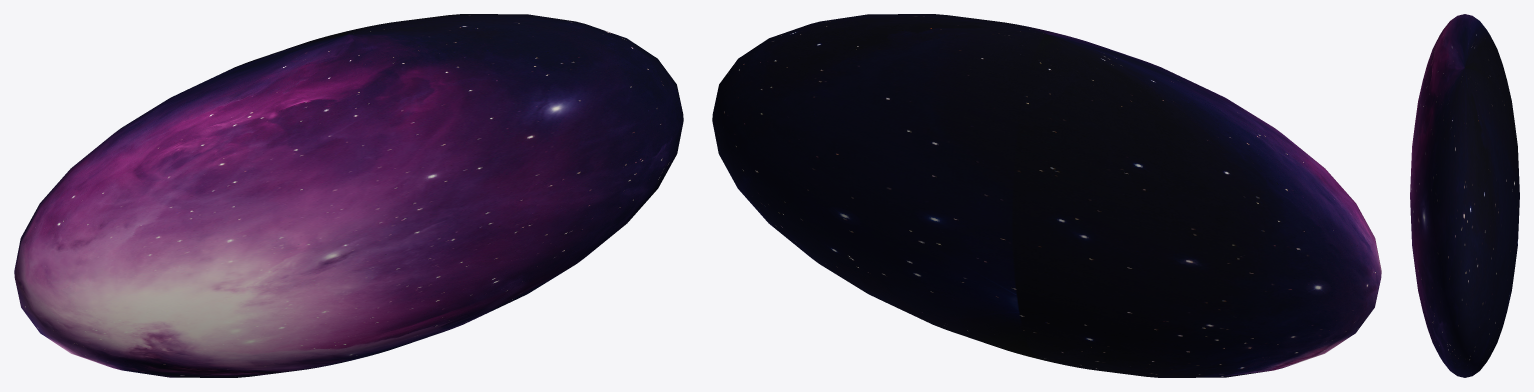
Rendered from nebula_bg.FBX.
3 renders of one model, left to right at view 1: azimuth 30°, elevation 25°; view 2: azimuth 150°, elevation 25°; view 3: azimuth 270°, elevation 25°, orthographic. The views are drawn at different scales.
Parts seen in each view (by area): view 1: Sphere001; view 2: Sphere001; view 3: Sphere001.
Part boxes in pixels (x1=…): Sphere001: x1=14, y1=14, x2=683, y2=377; Sphere001: x1=712, y1=14, x2=1381, y2=377; Sphere001: x1=1410, y1=14, x2=1519, y2=377.
Size of the model in its own units: 277 by 128 by 49.89.
1 material, 1 textured.
